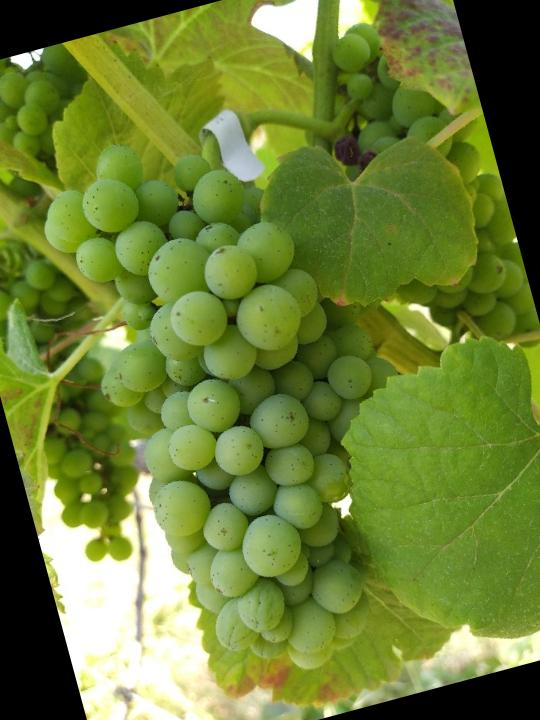grape: (26, 86, 468, 713)
